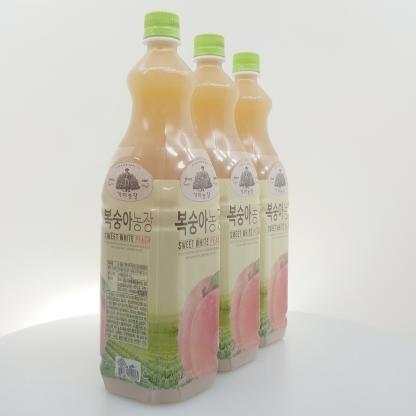-------1-5L: (100, 11, 220, 404)
